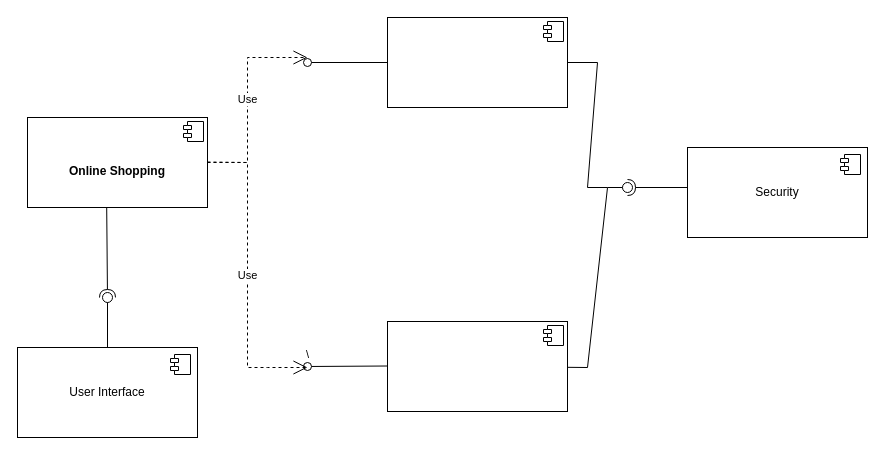
The diagram is 885 pixels wide and 455 high, and some of its shapes have lost their labels. Here are the shapes that lost their labels. From the top down, the centre of each, then its label:
the point at 477,62: Order
the point at 477,366: Customer
